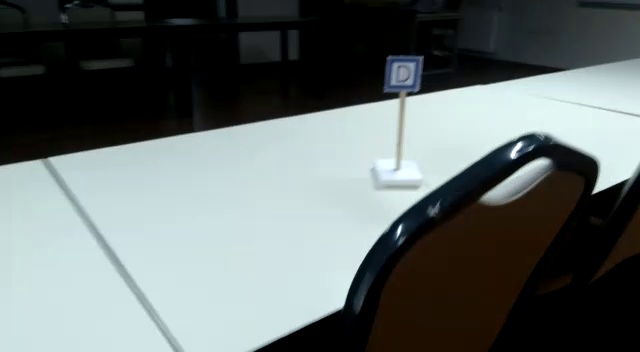durak: (386, 58, 420, 91)
